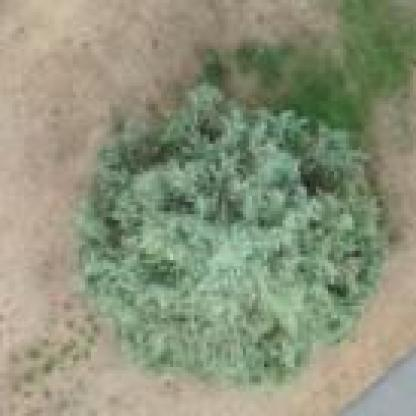Coniferous Tree: (79, 81, 389, 381)
